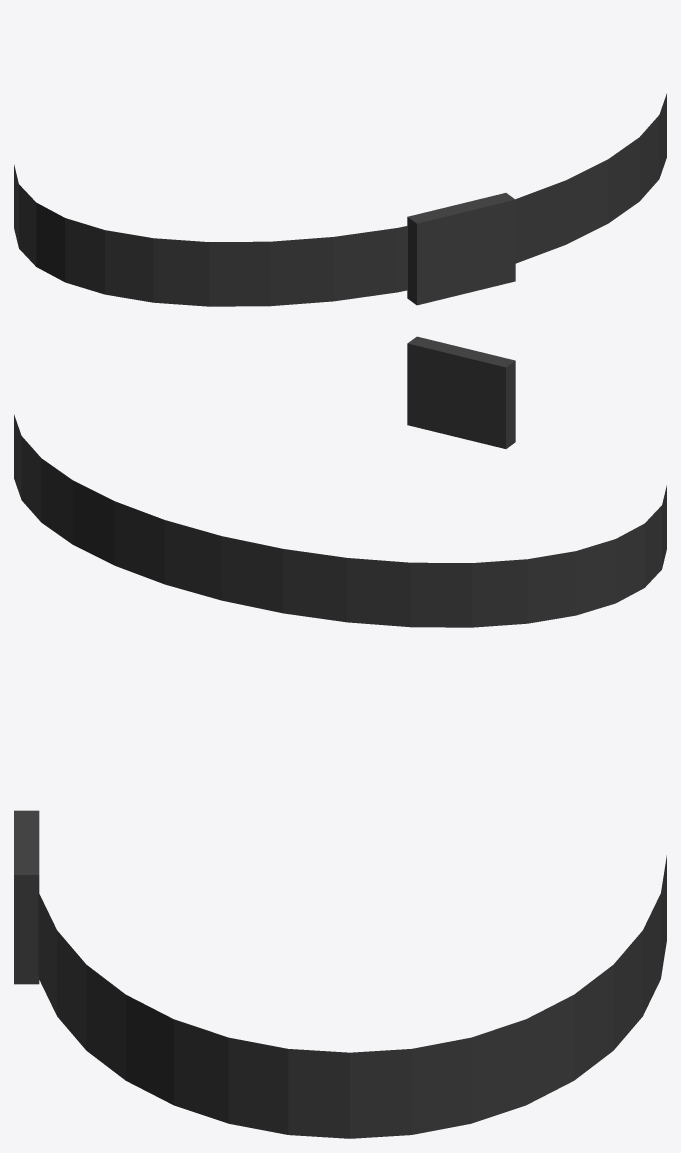
File: belt.glb
3 renders of one model, top to bottom at view 1: azimuth 30°, elevation 25°; view 2: azimuth 150°, elevation 25°; view 3: azimuth 270°, elevation 25°, orthographic. The views are drawn at different scales.
Visible parts, largest first — view 1: geometry_0; view 2: geometry_0; view 3: geometry_0.
Boxes of the visible parts, x1=… form: geometry_0: x1=14, y1=93, x2=666, y2=306; geometry_0: x1=14, y1=336, x2=666, y2=627; geometry_0: x1=14, y1=810, x2=666, y2=1138.
Size of the model in its own units: 0.296 by 0.038 by 0.206.
1 material, 1 textured.
